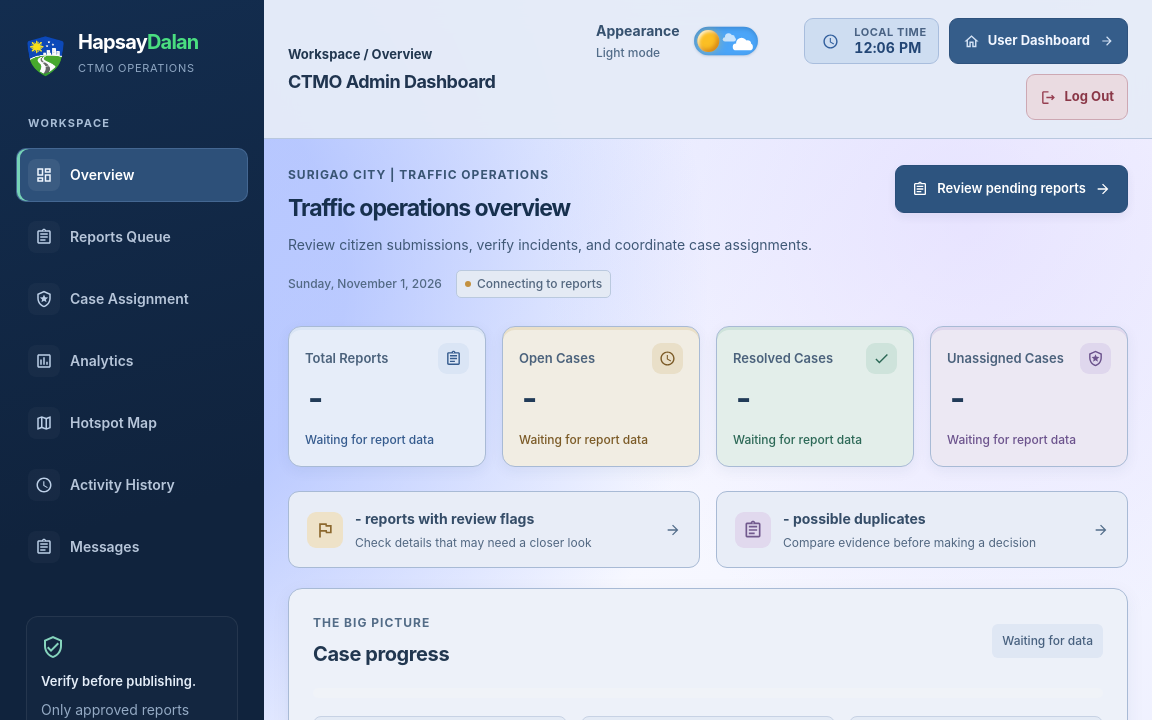
Test: a failed delete leaves the case and shows the server error
Step 1. Click the button "Reports Queue" → click(132, 237), box [16,210,248,264]
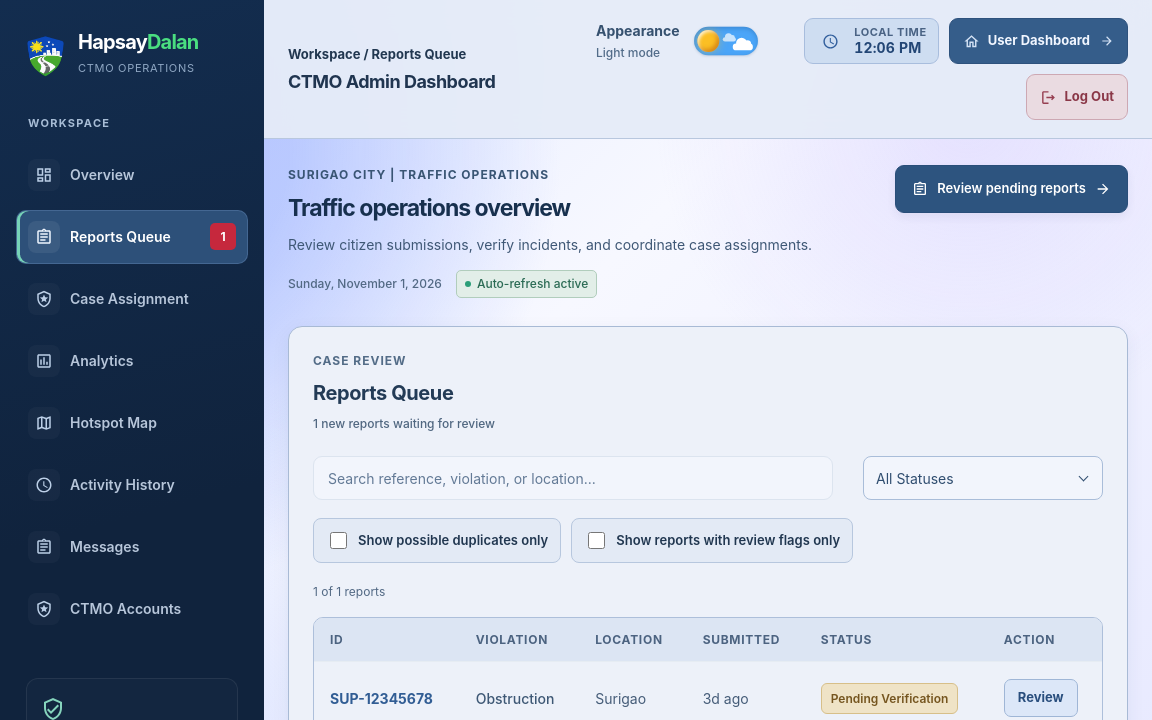
Step 2. Click the button "Review" → click(1041, 698), box [1004,679,1078,717]
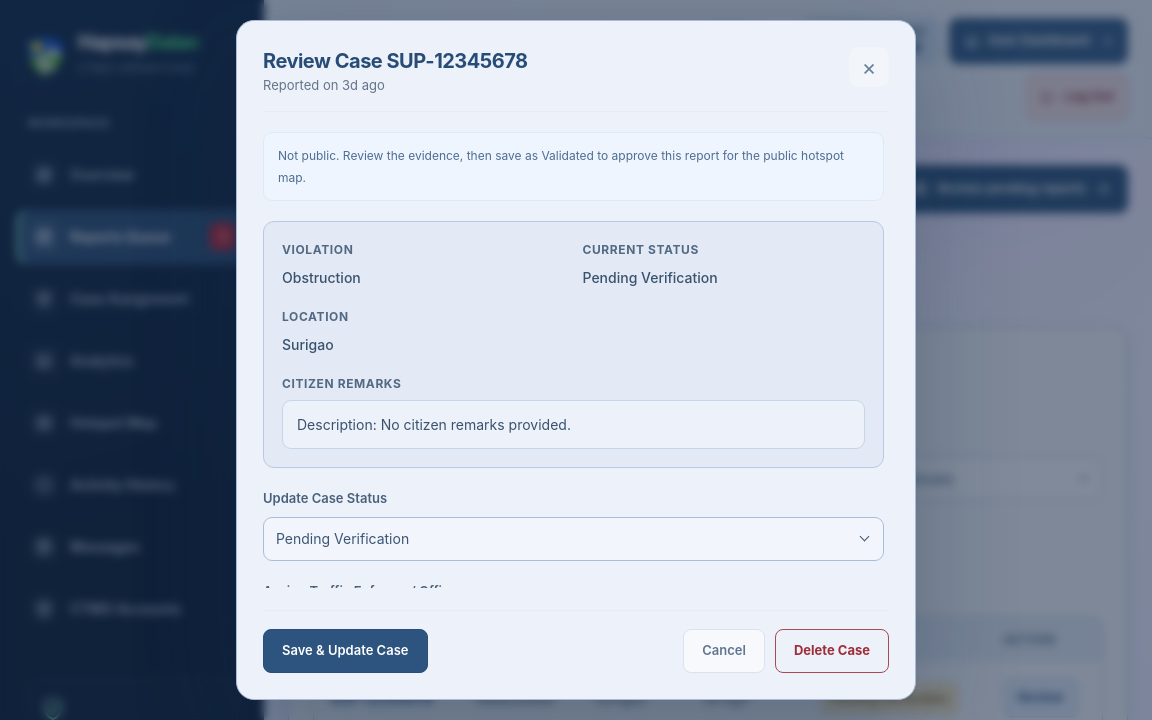
Step 3. Click the button "Delete Case" → click(832, 651), box [775,629,889,673]
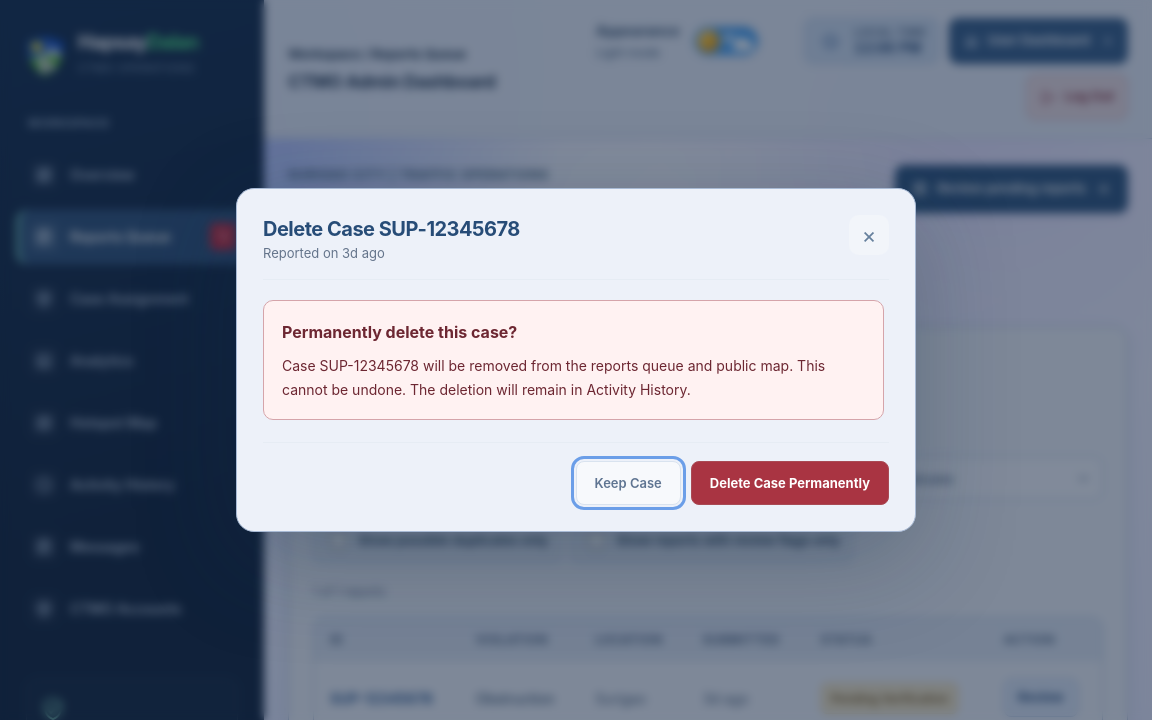
Step 4. Click the button "Delete Case Permanently" → click(790, 483), box [691,461,889,505]
(page scrolled)
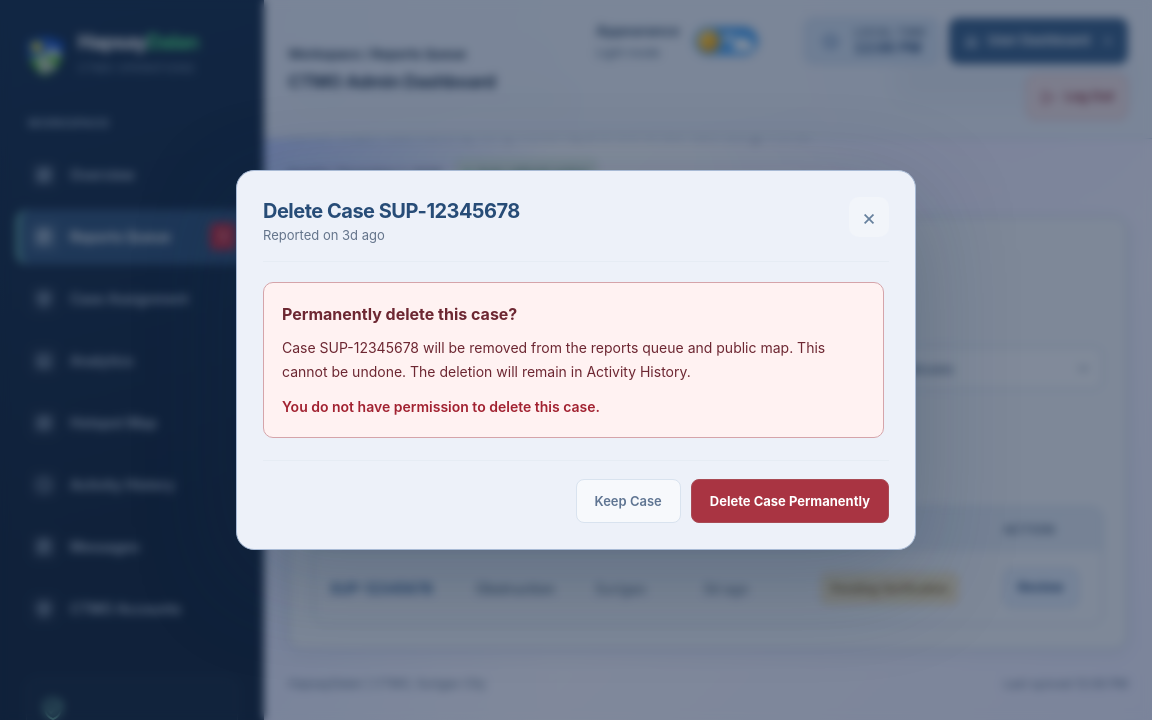
expect the dialog is shown: met, box [236,170,916,550]
expect the text "SUP-12345678" is shown: met, box [314,552,460,624]
expect the message reads "You do not have permission to delete this case.": met, box [282,398,600,416]
